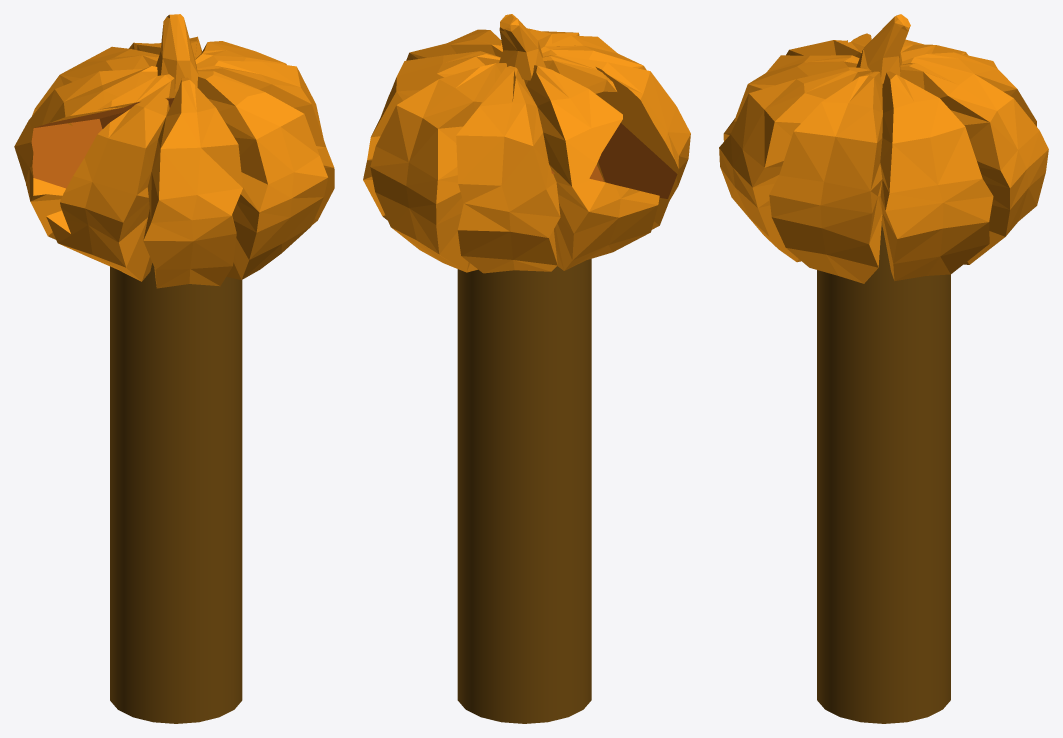
File: Punmkin_Left.fbx
3 views of the same model, side by side, from view 1: azimuth 30°, elevation 25°; view 2: azimuth 150°, elevation 25°; view 3: azimuth 270°, elevation 25° (orthographic).
Parts seen in each view (by area): view 1: SFM_FVC_Pumpkin002, Cylinder002; view 2: SFM_FVC_Pumpkin002, Cylinder002; view 3: SFM_FVC_Pumpkin002, Cylinder002.
Boxes of the visible parts, x1,y1,x2,y2 form: SFM_FVC_Pumpkin002: (14, 14, 334, 288); Cylinder002: (110, 263, 242, 723); SFM_FVC_Pumpkin002: (363, 14, 690, 273); Cylinder002: (457, 259, 591, 723); SFM_FVC_Pumpkin002: (719, 14, 1048, 283); Cylinder002: (817, 222, 950, 723).
Size of the model in its own units: 60.71 by 61.52 by 140.
1 material, 1 textured.
